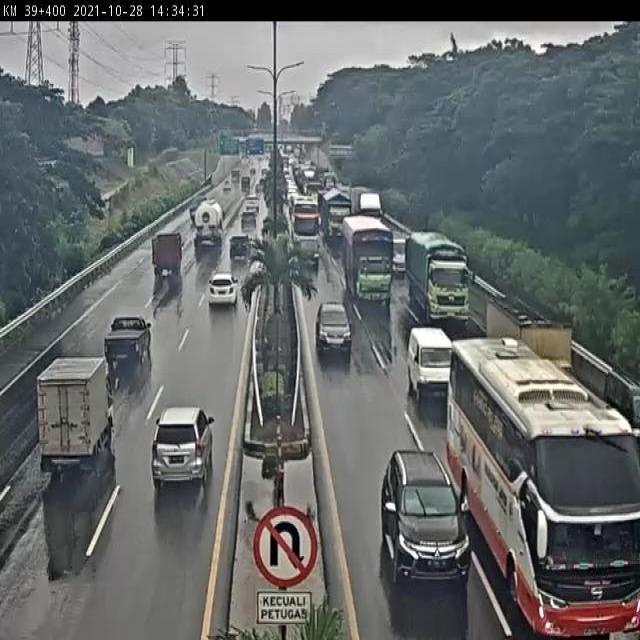big bus: (445, 333, 640, 640)
big truck: (487, 295, 575, 380), (405, 232, 473, 327), (340, 212, 392, 299), (189, 200, 223, 253)
car: (375, 451, 472, 588), (152, 405, 216, 488), (406, 325, 459, 408), (103, 314, 151, 366), (314, 298, 354, 358), (208, 269, 240, 308), (390, 228, 410, 276), (228, 229, 252, 259), (297, 235, 320, 264)
small truck: (37, 356, 114, 472), (149, 231, 184, 280)
